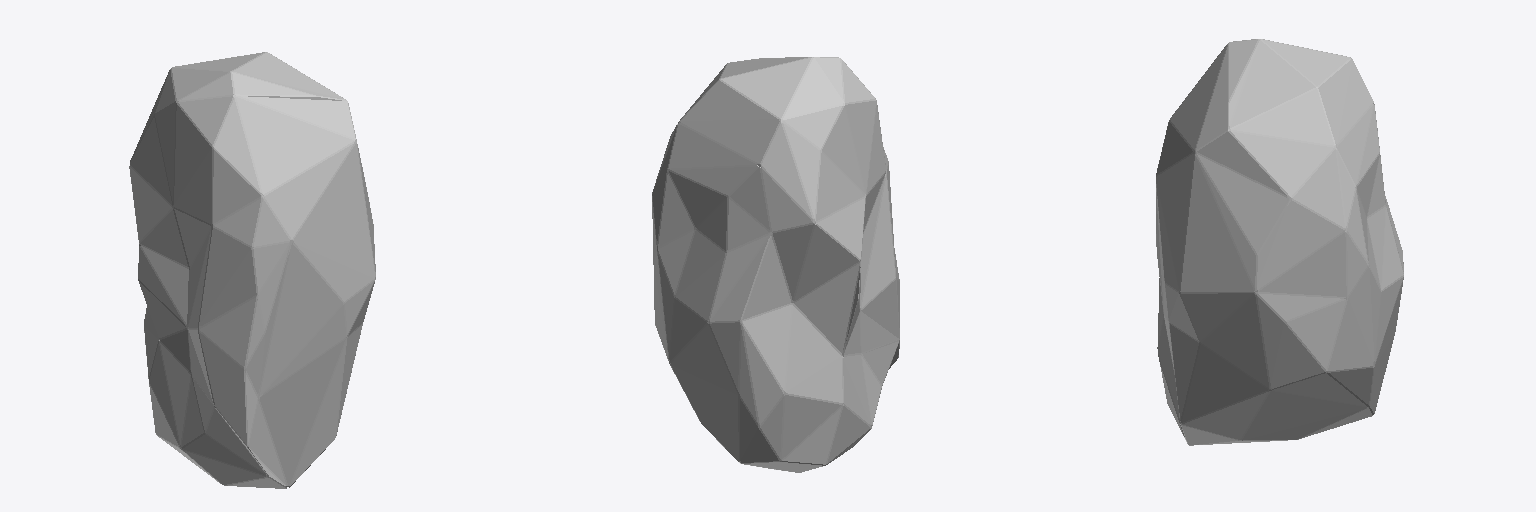
Rendered from orb.obj.
3 renders of one model, left to right at view 1: azimuth 30°, elevation 25°; view 2: azimuth 150°, elevation 25°; view 3: azimuth 270°, elevation 25°, orthographic.
Visible parts, largest first — view 1: Cube; view 2: Cube; view 3: Cube.
Part boxes in pixels (bbox=[...]): Cube: bbox=[129, 52, 375, 488]; Cube: bbox=[652, 57, 899, 472]; Cube: bbox=[1156, 39, 1403, 445].
Size of the model in its own units: 1.77 by 3.23 by 1.82.